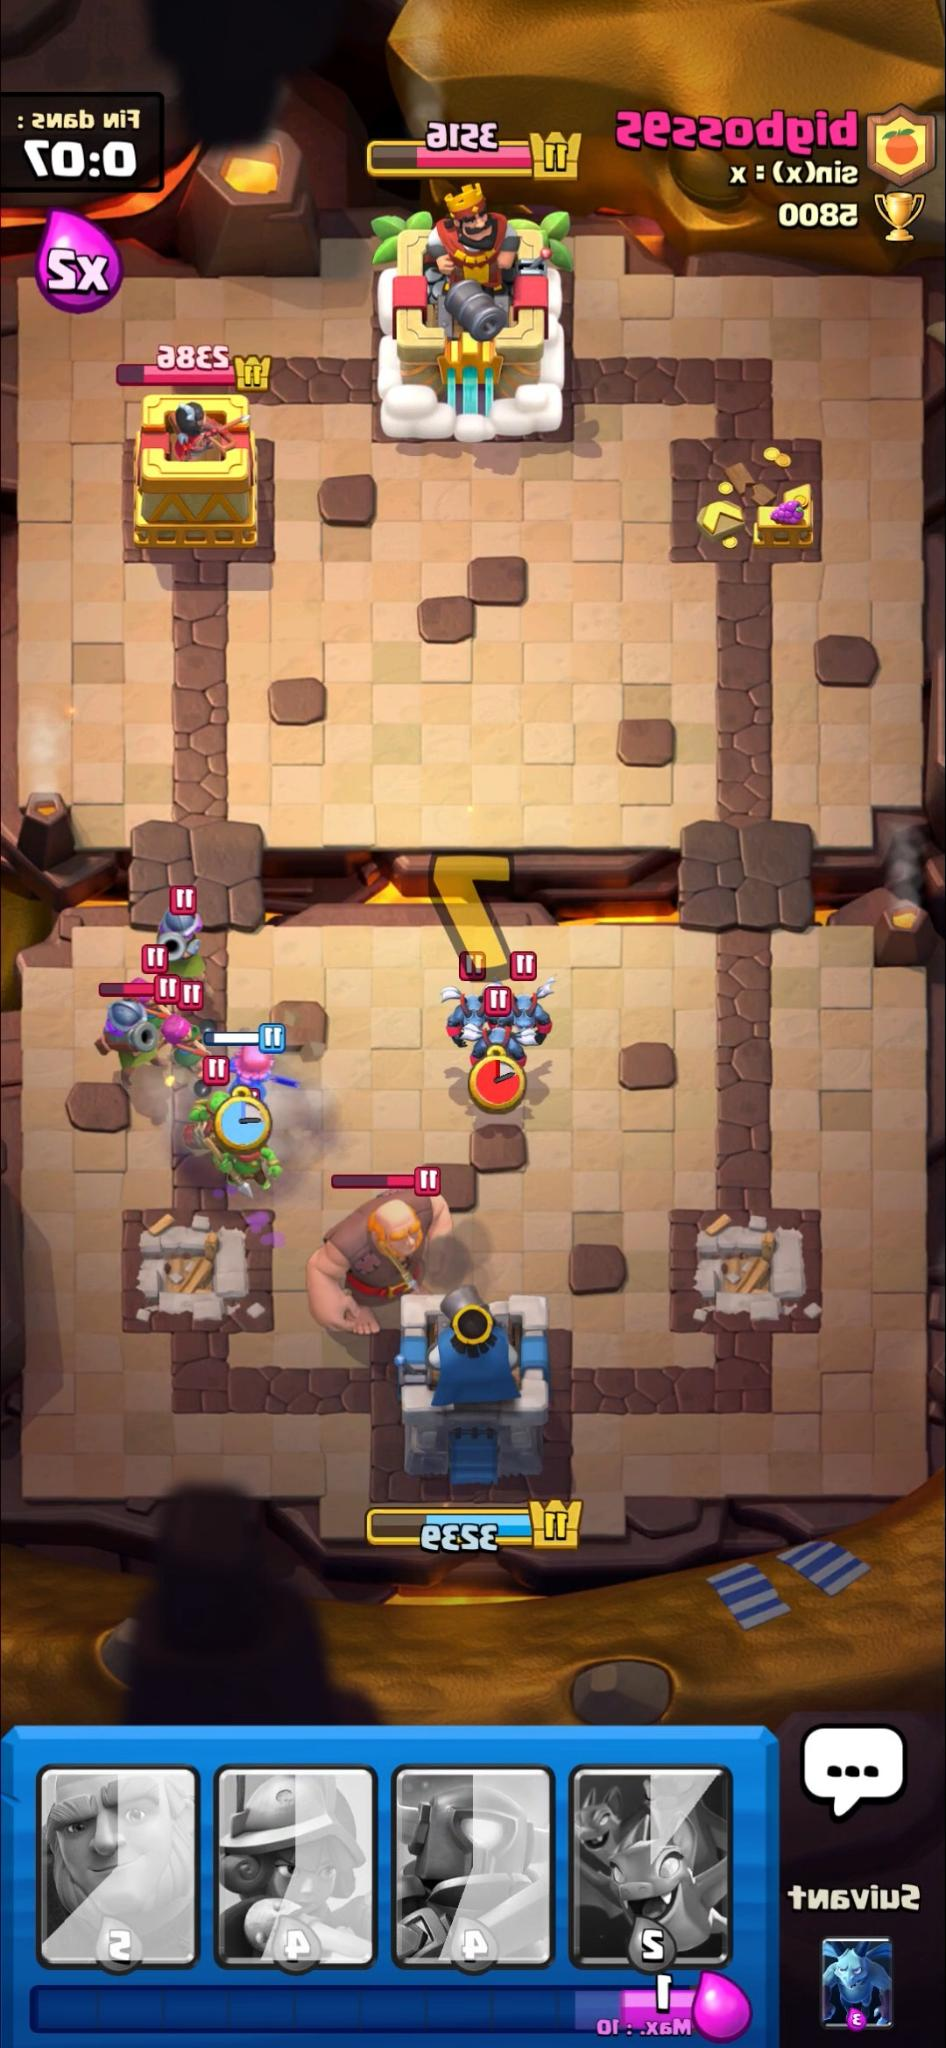archere: (153, 1008, 210, 1070)
gargouille: (489, 977, 563, 1040), (446, 1024, 528, 1080), (435, 980, 500, 1044)
geant: (306, 1182, 451, 1341)
gobelin_lances: (175, 1084, 227, 1149)
mousquetaire: (144, 901, 204, 986), (98, 998, 149, 1079)
valkyrie: (217, 1050, 294, 1102)
